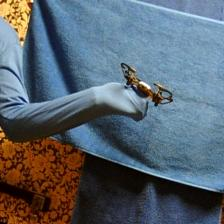drone: (117, 62, 176, 110)
